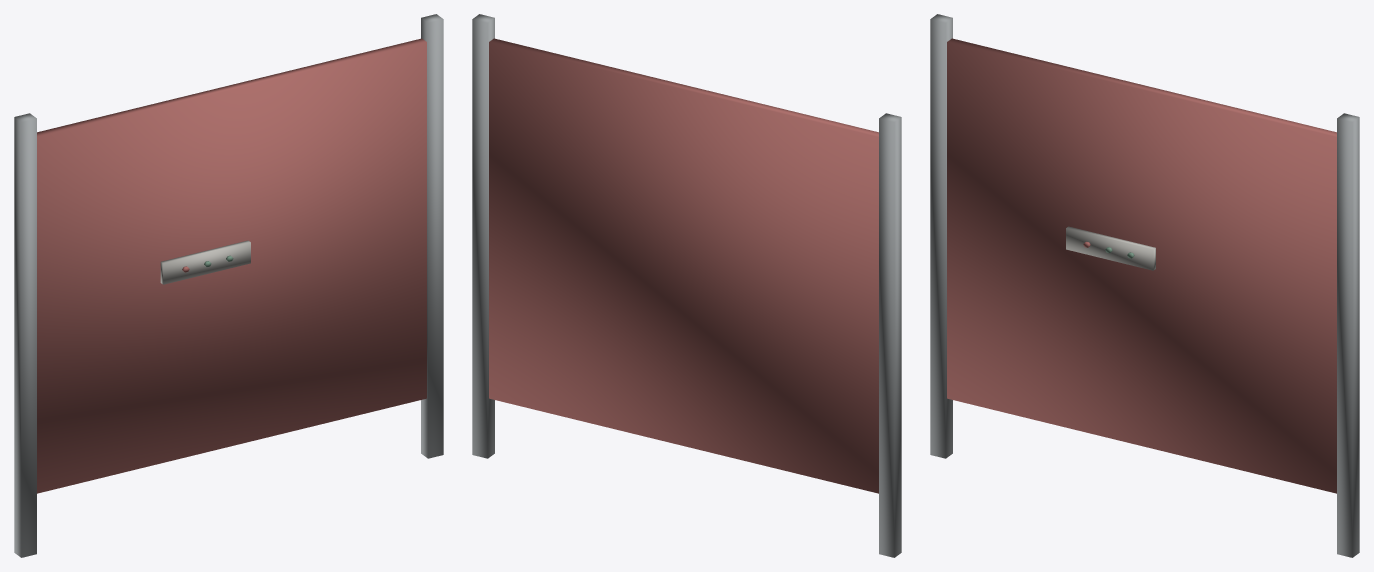
The model's file is welding_screen__wide.glb.
3 renders of one model, left to right at view 1: azimuth 30°, elevation 25°; view 2: azimuth 150°, elevation 25°; view 3: azimuth 330°, elevation 25°, orthographic.
Parts seen in each view (by area): view 1: world; view 2: world; view 3: world.
Part boxes in pixels (x1=…): world: x1=14, y1=14, x2=443, y2=557; world: x1=472, y1=14, x2=901, y2=557; world: x1=930, y1=14, x2=1359, y2=557.
Bounding box in the file's own units: 1.67 × 1.65 × 0.081.
